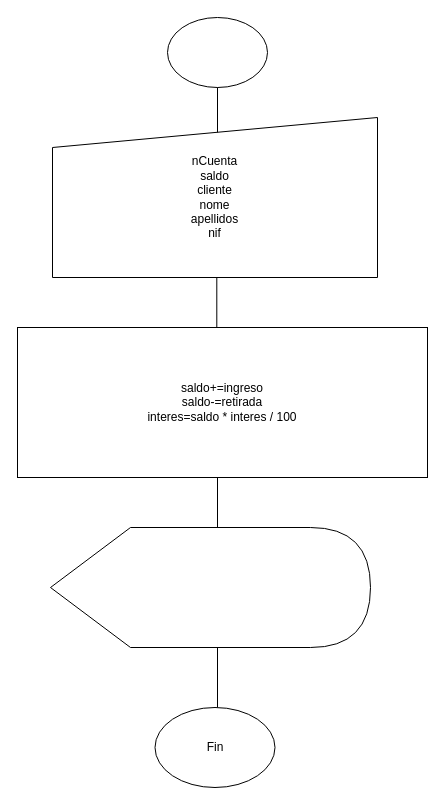
This 445x805 diagram has some shape labels left out. Here are the shapes that lost their labels. From the top down, the centre of each, then its label:
(217,52): Inicio
(210,587): toString()
